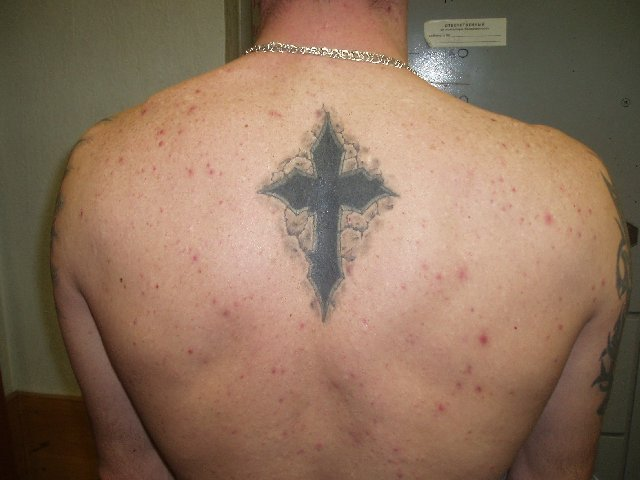tatu9_krest: (276, 100, 390, 325)
